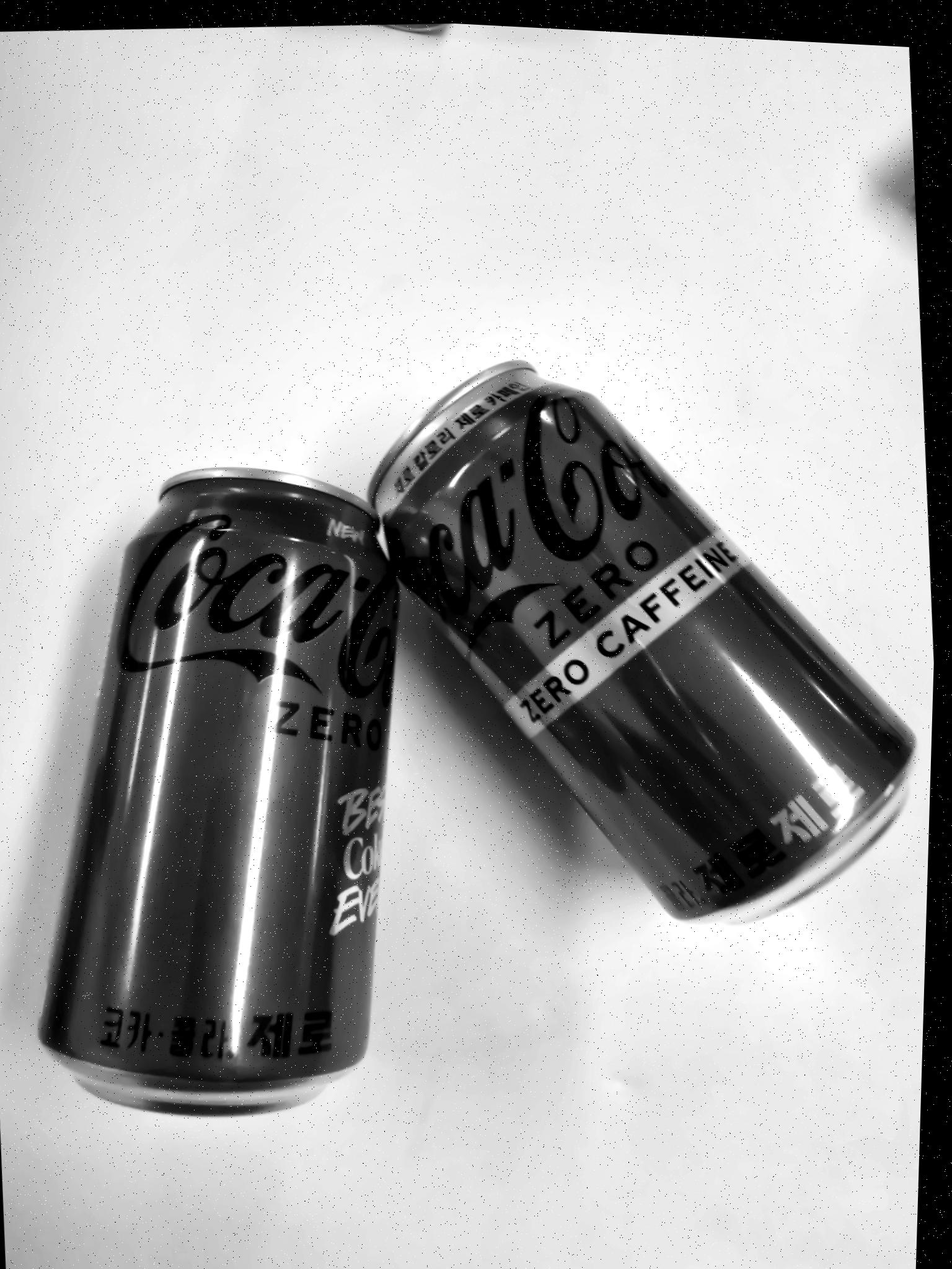can_coke_decaf: (361, 358, 917, 934)
can_coke_zero: (24, 471, 409, 1115)
